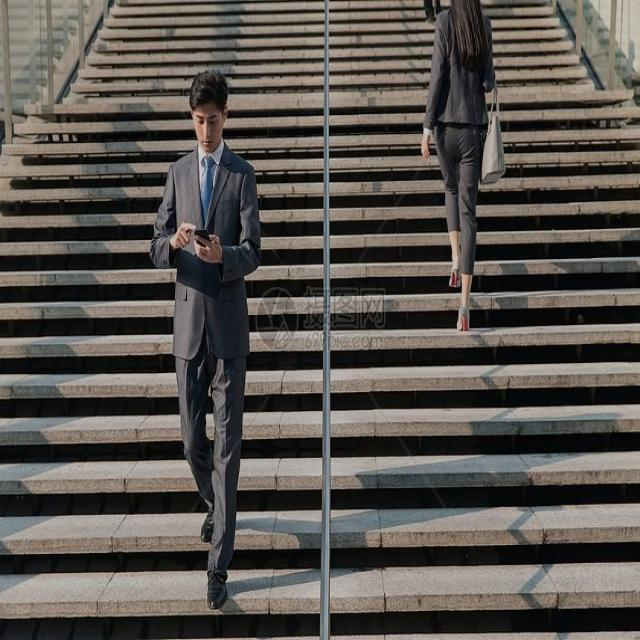non-fight: (152, 69, 258, 612), (418, 0, 500, 340)
